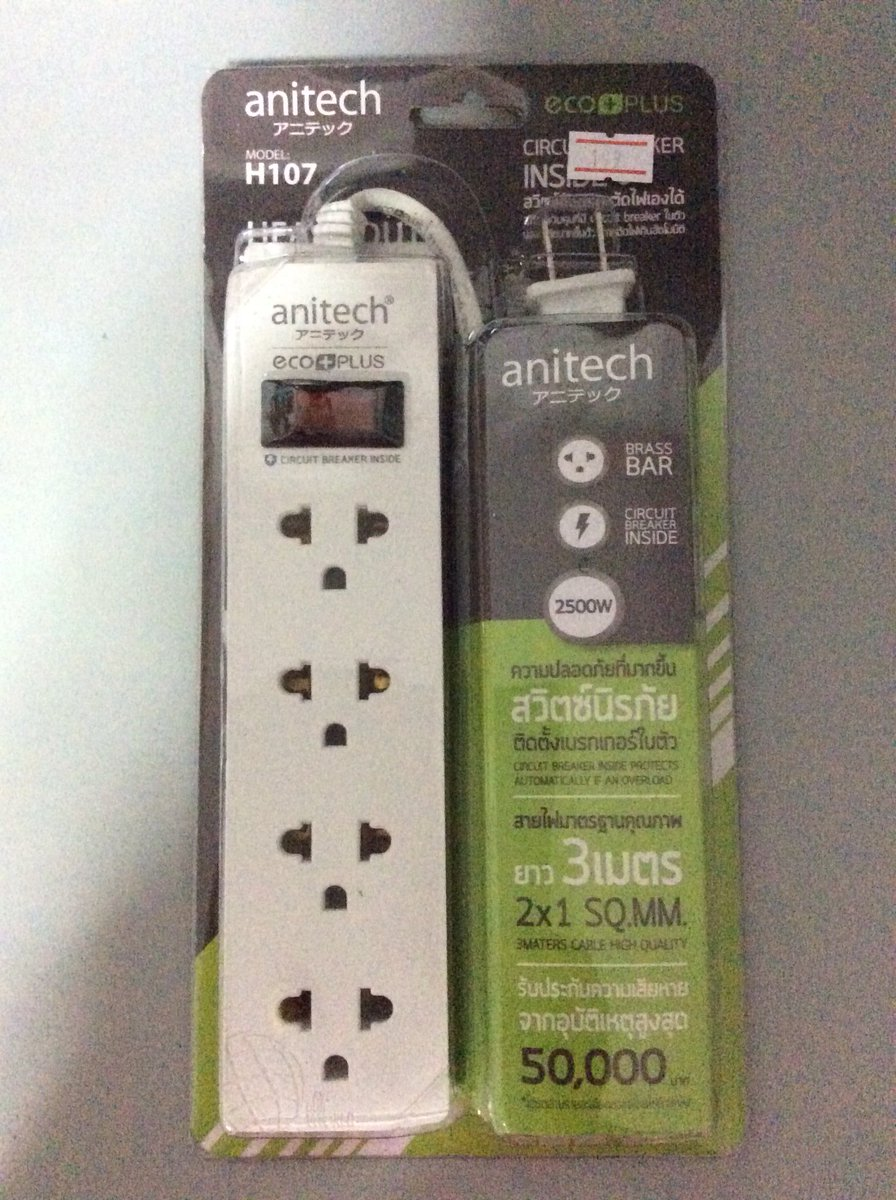Three_eye_plug: (207, 237, 470, 1143)
